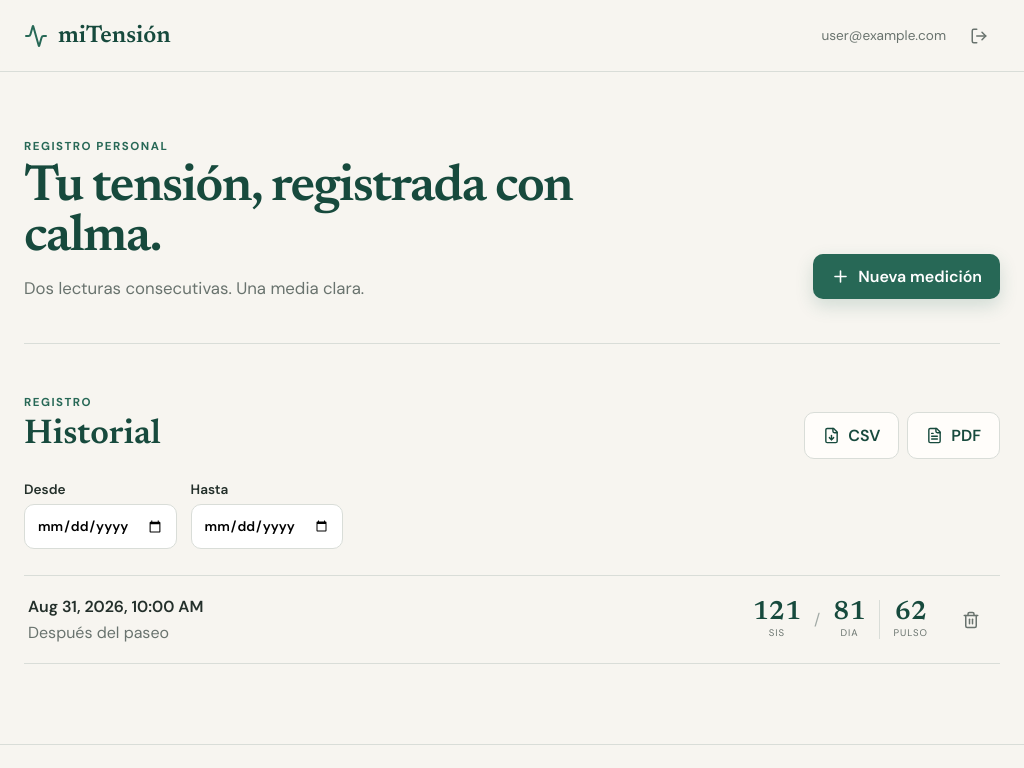
web workflow › loads filtered history and confirms soft deletion
Check: the text "Después del paseo" is shown, box top-left (28, 622), bottom-right (169, 643)
In the date field labelled "Desde": (100, 527) top-left (24, 504), bottom-right (177, 549), type "2026-08-01"
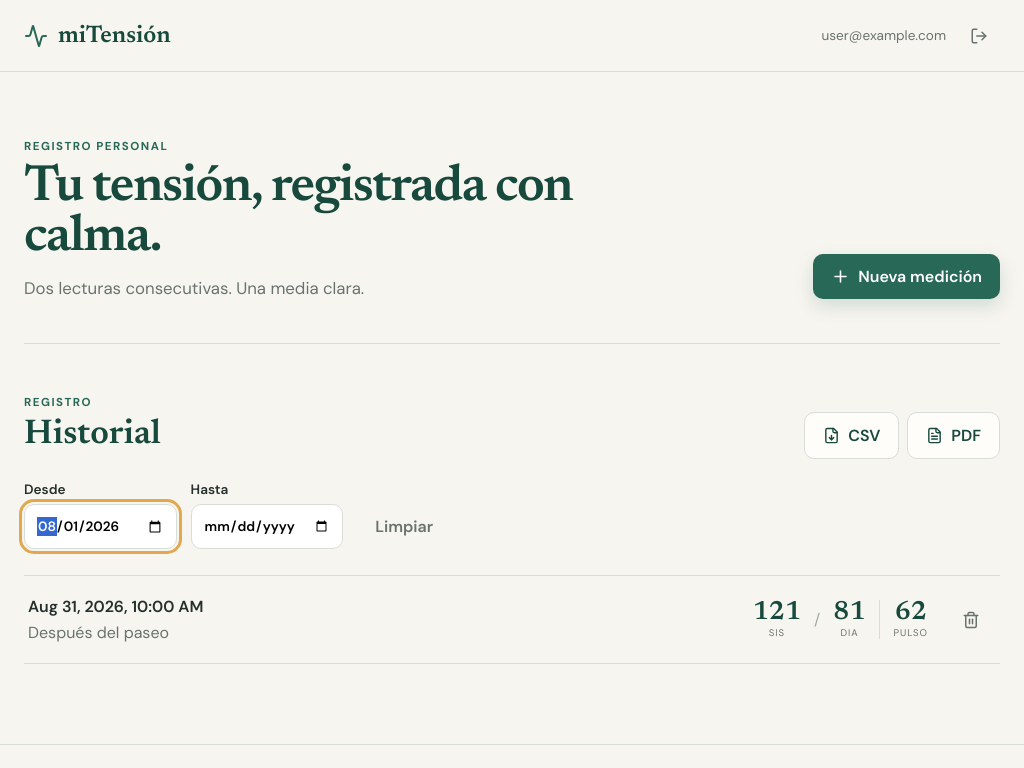
Click the button named "Eliminar medición": (971, 620) top-left (950, 599), bottom-right (992, 641)
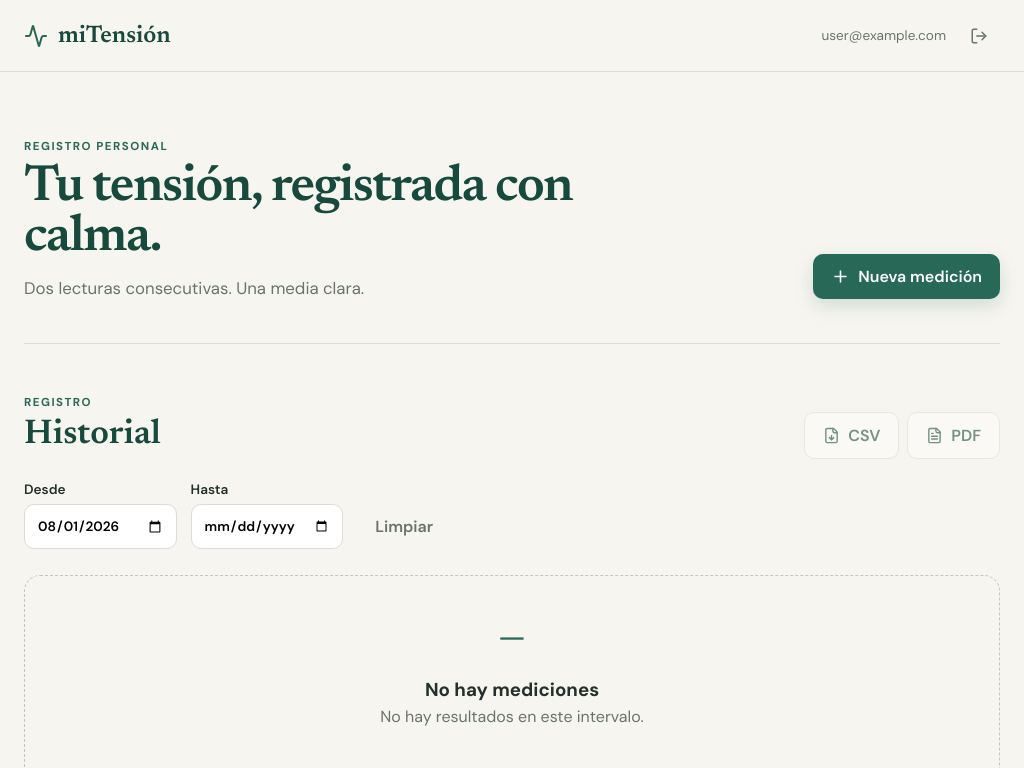
Check: the text "Después del paseo" is gone
